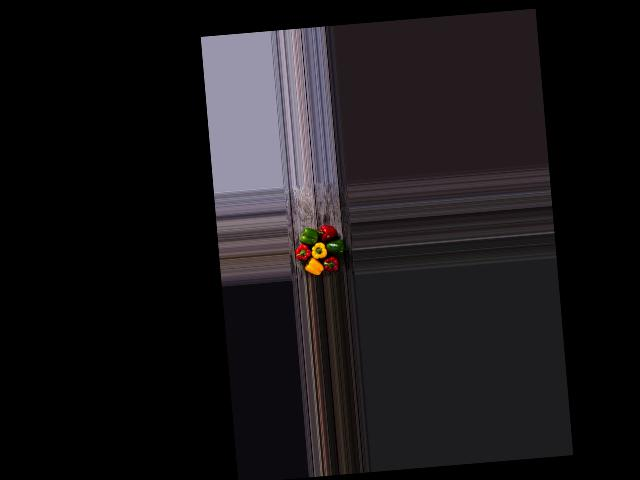bell_pepper: (319, 255, 340, 276)
